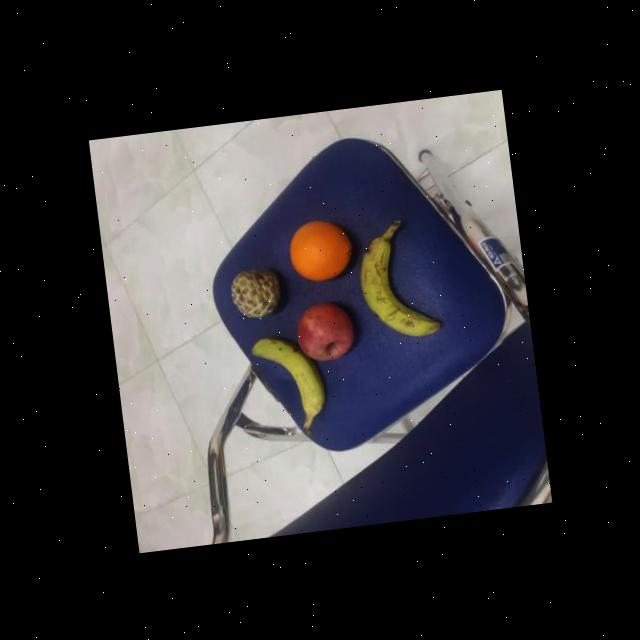Sakya fruit: (224, 260, 286, 320)
apple: (290, 300, 358, 364)
banana: (352, 228, 442, 342), (246, 322, 328, 425)
orange: (284, 214, 356, 283)
